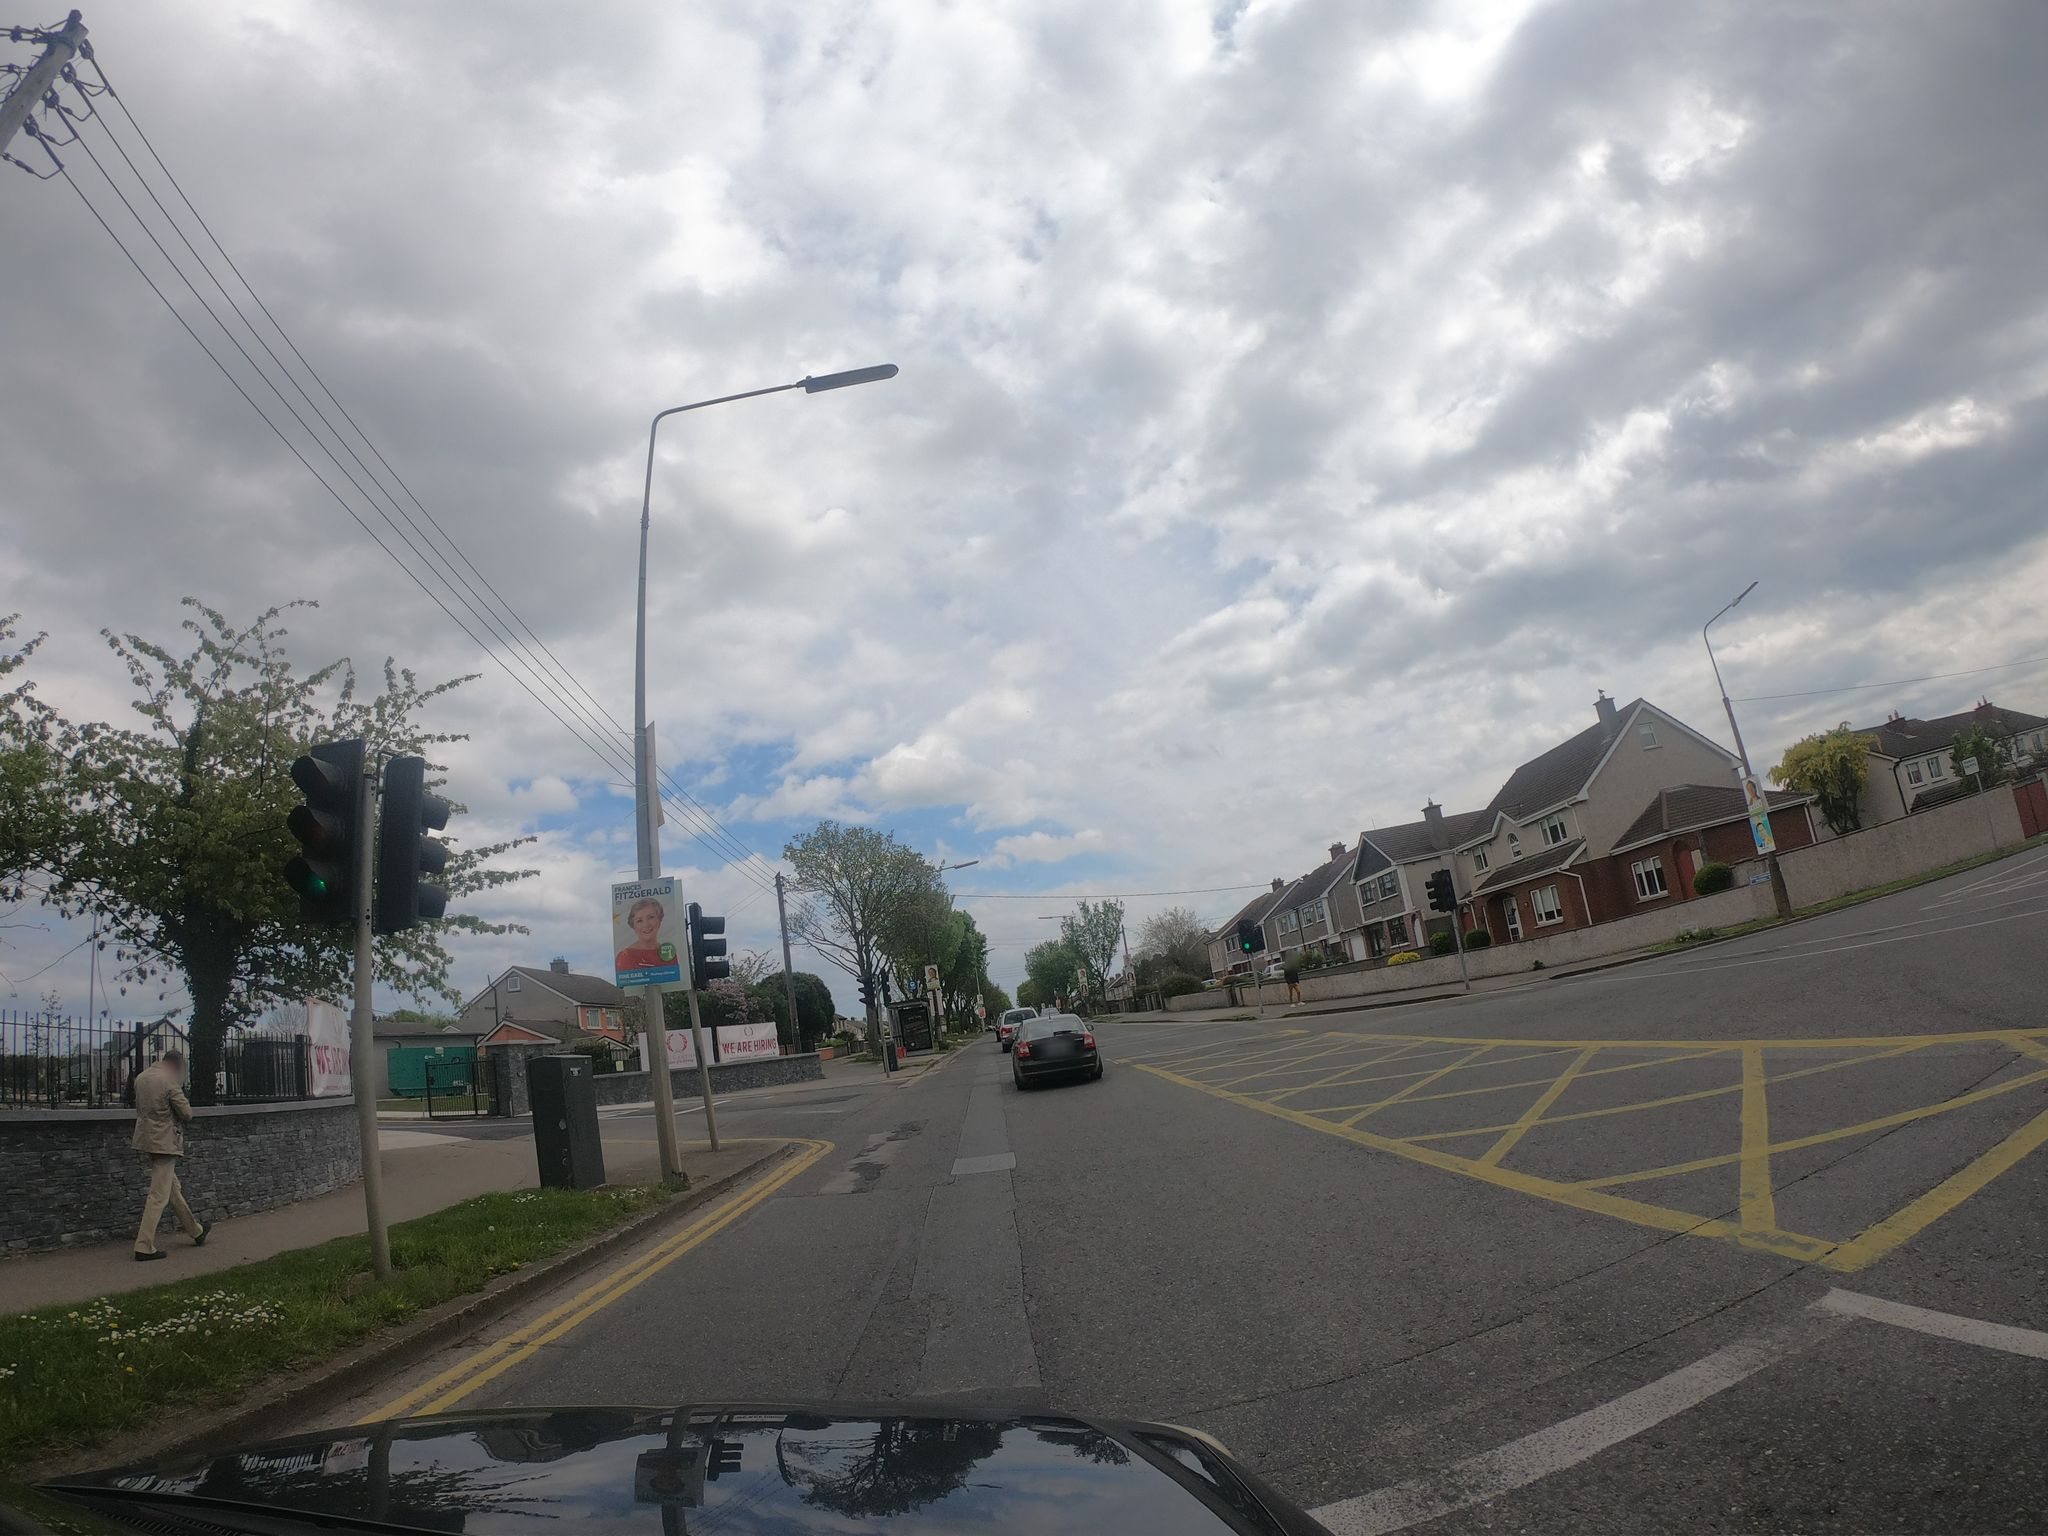vinyl banner: (297, 978, 358, 1104), (705, 999, 792, 1078)
